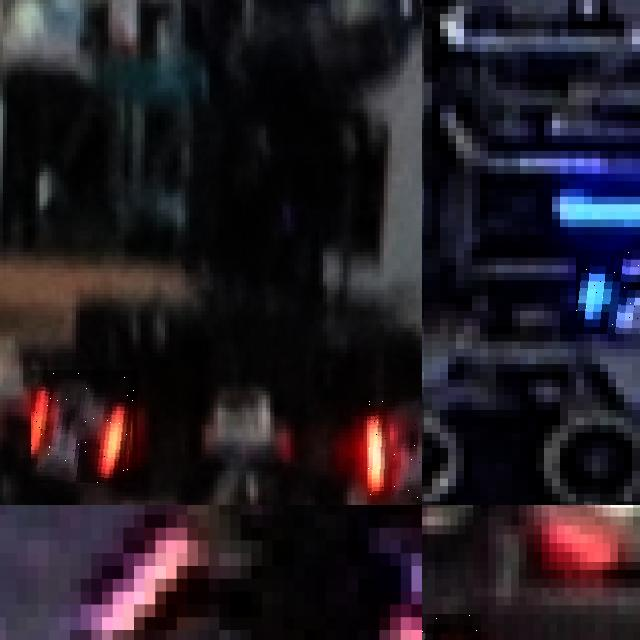B2: (576, 250, 640, 334)
Rs: (31, 370, 137, 483), (367, 391, 422, 504)
